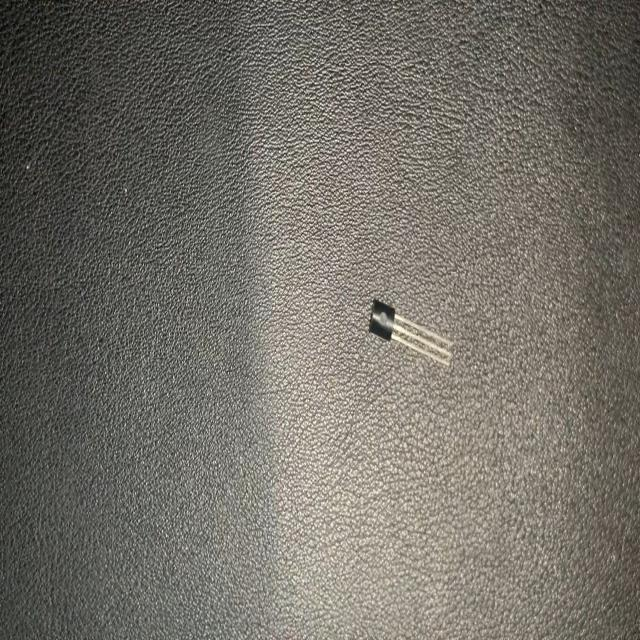BJT: (368, 294, 453, 375)
